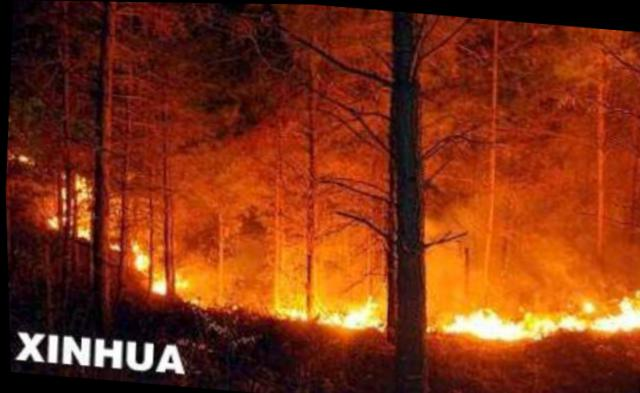fire: (259, 259, 639, 353), (36, 163, 192, 295)
